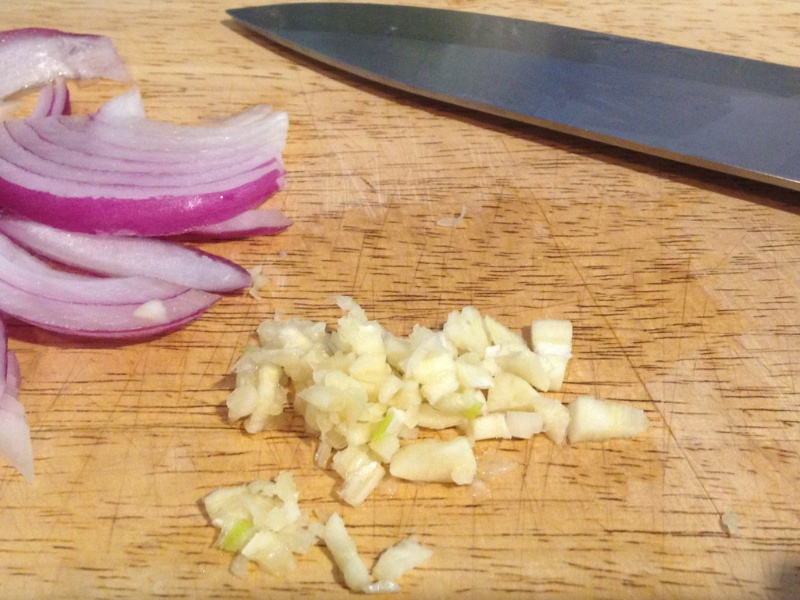knife: (220, 1, 799, 194)
